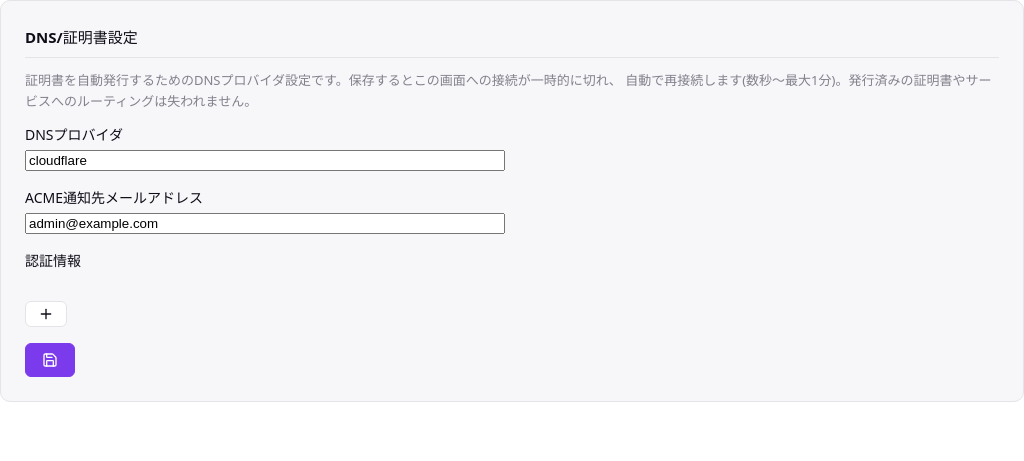
DnsConfigSection › 認証情報の追加・削除ができる
expect the field labelled "DNSプロバイダ" is shown: met, box [25,150,505,171]
Click the button named "認証情報を追加".
click(46, 314)  # box [25,301,67,327]
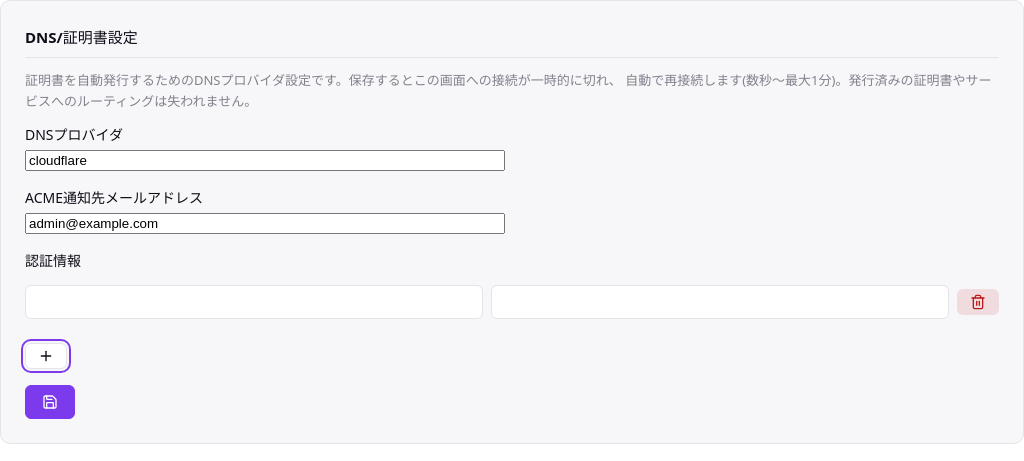
expect the number of elements with test id "dns-credential-row" is 1: met, box [25,285,999,319]
Type "CF_DNS_API_TOKEN" into the field named "認証情報キー".
click(254, 302); type("CF_DNS_API_TOKEN")  # box [25,285,483,319]
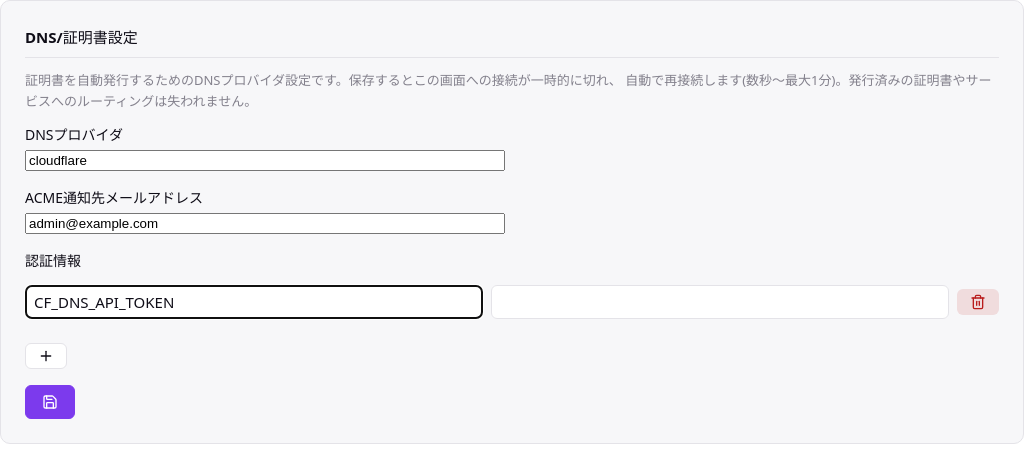
Type "secret-token" into the field named "認証情報の値".
click(720, 302); type("secret-token")  # box [491,285,949,319]
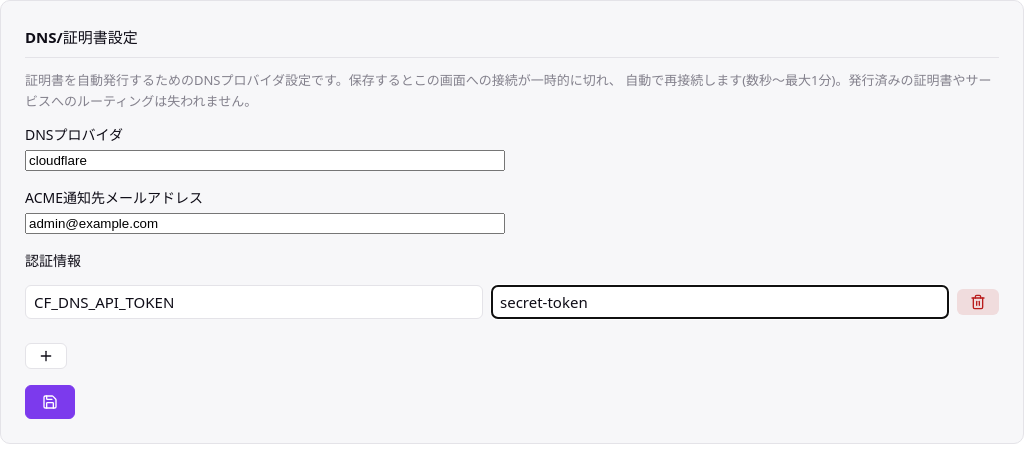
Click the button named "認証情報を削除".
click(978, 302)  # box [957,289,999,315]
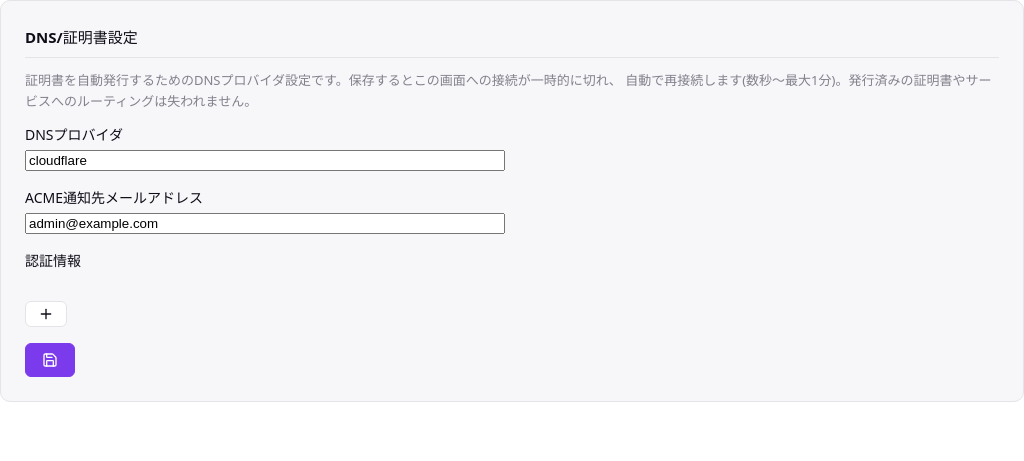
expect no elements with test id "dns-credential-row" are shown: met
